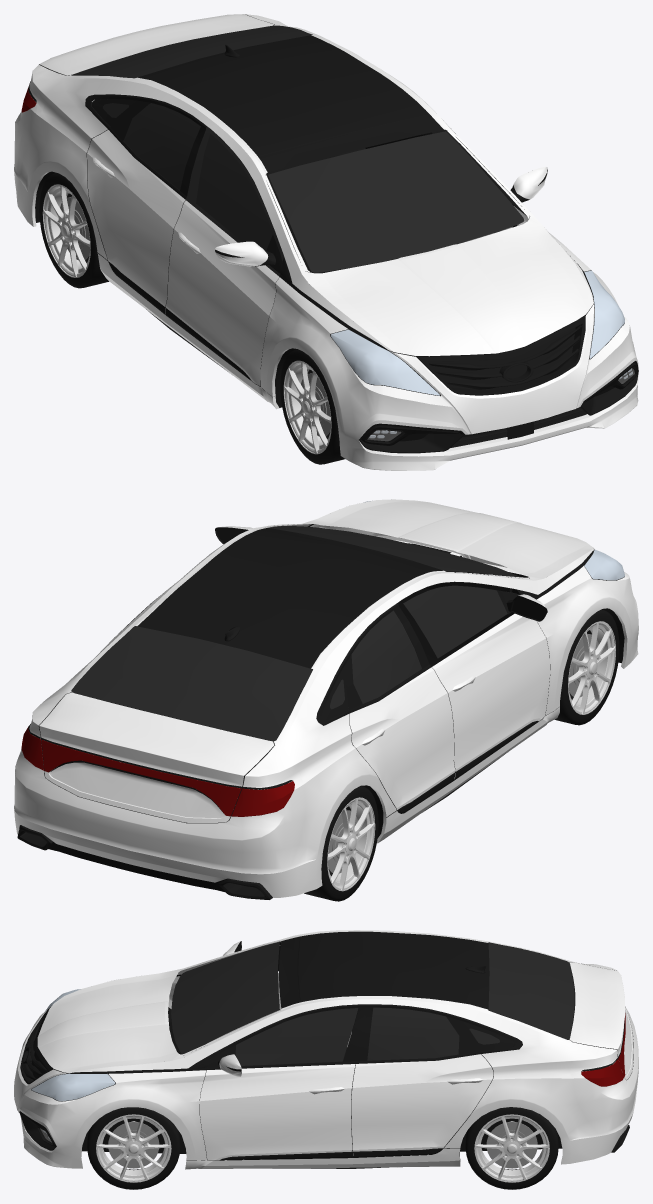
The model's file is azera-2016.glb.
The picture shows the model from 3 angles, top to bottom: view 1: azimuth 30°, elevation 25°; view 2: azimuth 150°, elevation 25°; view 3: azimuth 270°, elevation 25°; orthographic projection. The views are drawn at different scales.
Visible parts, largest first — view 1: body, model_6_0_0_1, hood, roof, model_3_0_0_0_0_0_1, model_4, model_1_0, model_5, model_3_0_0_0_0_1, rear, model_2, model_3_0_0_0_0_0_0_0_0_0_0_1 (+2 smaller); view 2: body, model_6_0_0_1, roof, hood, model_4, model_1_1, model_5, model_3_0_0_0_0_0_1, model_3_0_0_1, model_3_0_0_0_1, model_3_0_0_0_0_0_0_0_0_0_1, dentro_0_1 (+4 smaller); view 3: body, model_6_0_0_1, roof, hood, model_4, model_3_0_0_0_0_0_1, model_5, model_2, dentro_0_1, model_1_0, model_3_0_1, model_3_0_0_0_0_0_0_0_0_0_0_1 (+3 smaller).
Part boxes in pixels (x1,y1,x2,y2): body: (14,14,638,470); model_6_0_0_1: (71,25,524,272); hood: (302,216,593,356); roof: (138,35,443,172); model_3_0_0_0_0_0_1: (85,94,638,453); model_4: (42,184,331,454); model_1_0: (331,270,632,438); model_5: (39,173,344,464); model_3_0_0_0_0_1: (100,76,365,249); rear: (215,166,547,266); model_2: (60,197,330,436); model_3_0_0_0_0_0_0_0_0_0_0_1: (108,261,251,380); body: (14,524,638,897); model_6_0_0_1: (71,526,520,740); roof: (136,528,442,668); hood: (302,499,593,580); model_4: (327,621,615,891); model_1_1: (21,727,294,816); model_5: (304,609,619,901); model_3_0_0_0_0_0_1: (114,524,624,817); model_3_0_0_1: (17,825,272,899); model_3_0_0_0_1: (108,571,550,779); model_3_0_0_0_0_0_0_0_0_0_1: (28,683,292,823); dentro_0_1: (215,527,547,621); body: (14,930,638,1169); model_6_0_0_1: (171,942,574,1065); roof: (279,931,489,1009); hood: (37,968,183,1072); model_4: (96,1114,549,1182); model_3_0_0_0_0_0_1: (19,974,522,1160); model_5: (87,1107,558,1189); model_2: (108,1122,537,1168); dentro_0_1: (207,941,365,1071); model_1_0: (31,989,115,1139); model_3_0_1: (82,1007,562,1168); model_3_0_0_0_0_0_0_0_0_0_0_1: (220,1148,442,1160).
Bounding box in the file's own units: 2.24 × 1.44 × 4.65.
